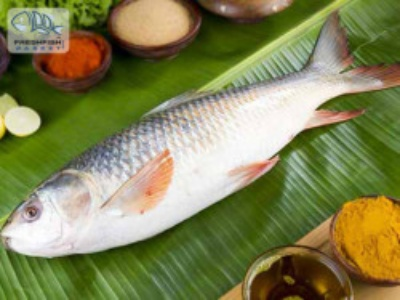rohu: (1, 14, 400, 259)
